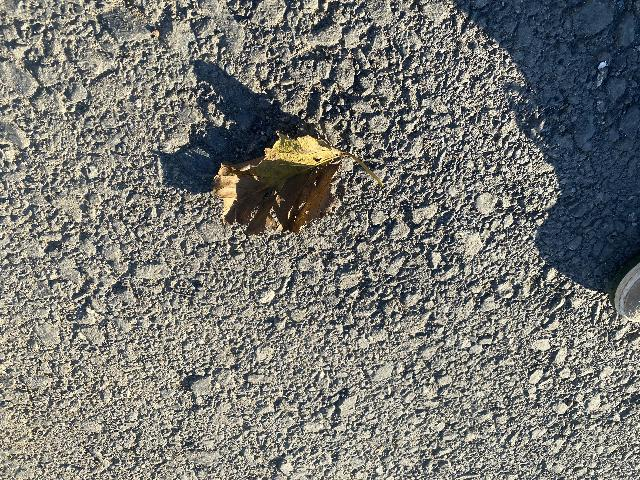Organik: (205, 111, 414, 237)
